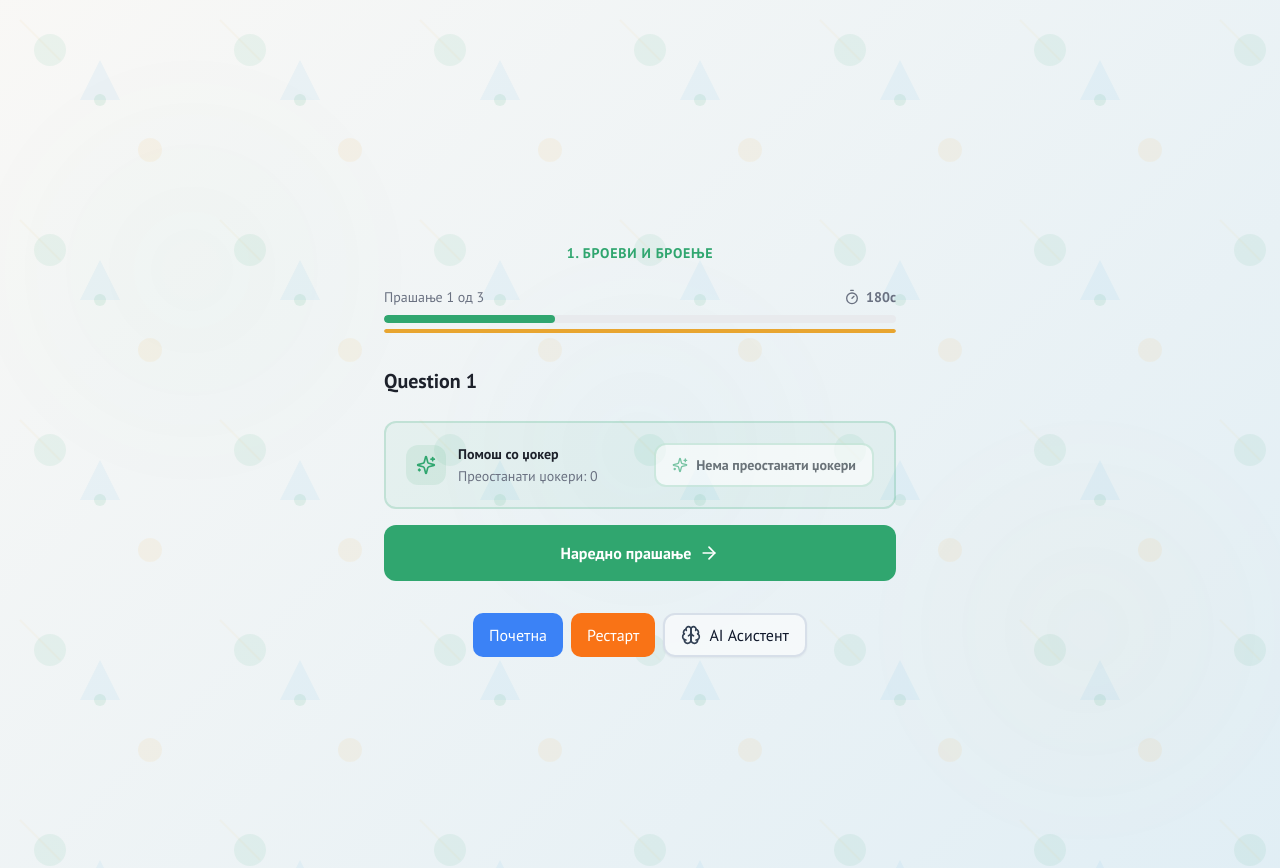
Test: paper quiz jokers › supports disabling jokers and displays zero usage
Expected: the button "Нема преостанати џокери" is disabled, [654,443,874,487]
What coordinates should you click on to do the following:
click the button "Наредно прашање"
I would click on:
 (640, 553)
Its box is [384,525,896,581].
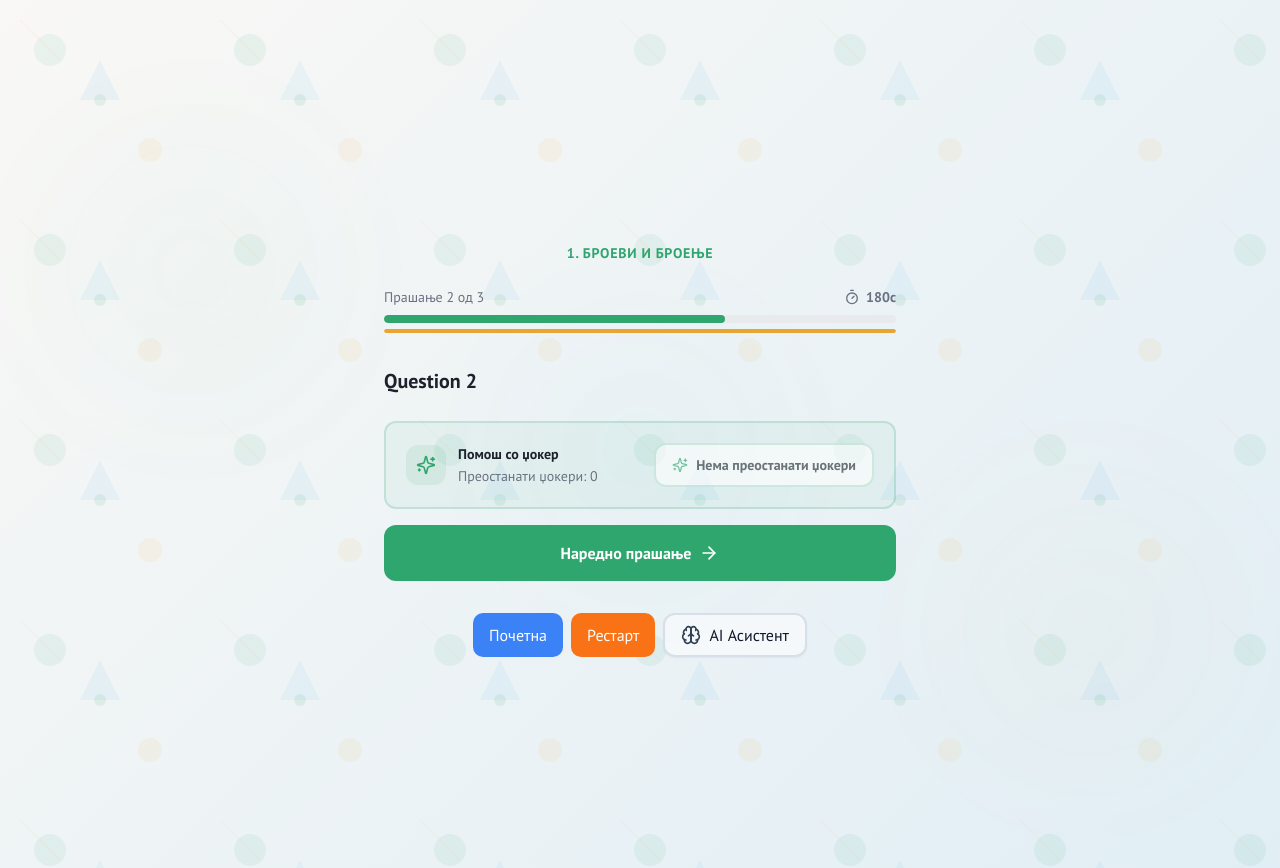
What coordinates should you click on to do the following:
click the button "Наредно прашање"
I would click on:
 (640, 553)
Its box is [384,525,896,581].
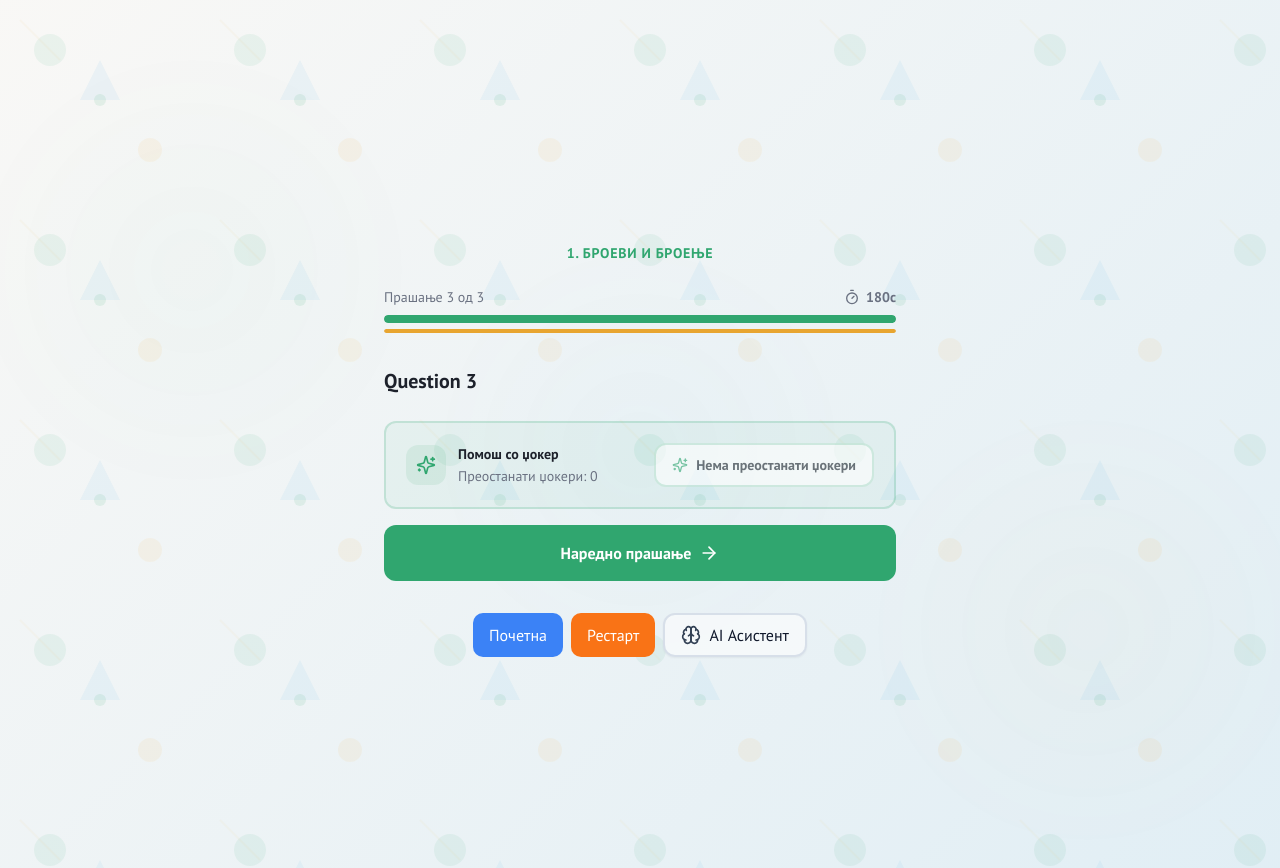
What coordinates should you click on to do the following:
click the button "Наредно прашање"
I would click on:
 (640, 553)
Its box is [384,525,896,581].
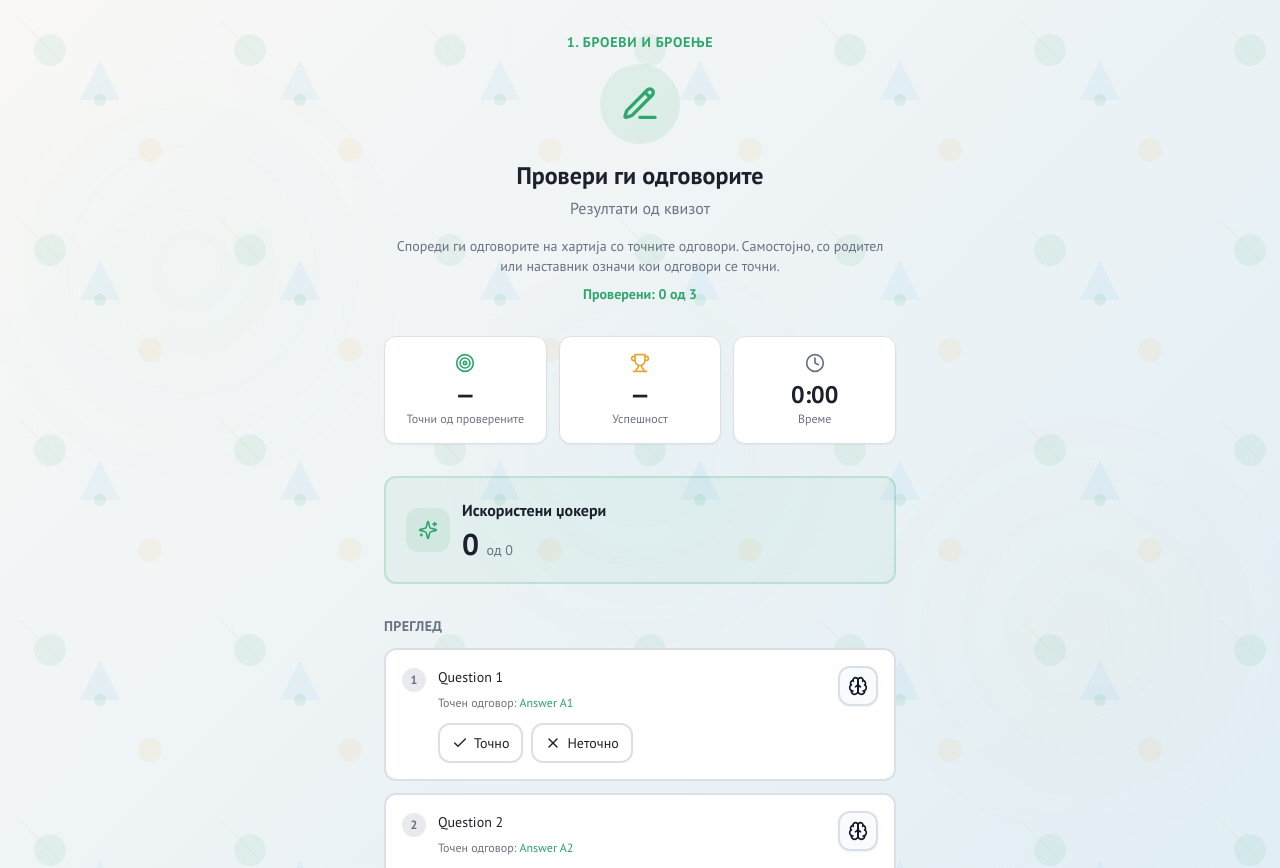
Now the element named "Џокери во квизот" shows "0 од 0", box [384,476,896,584]
Now the text "со џокер" is gone
